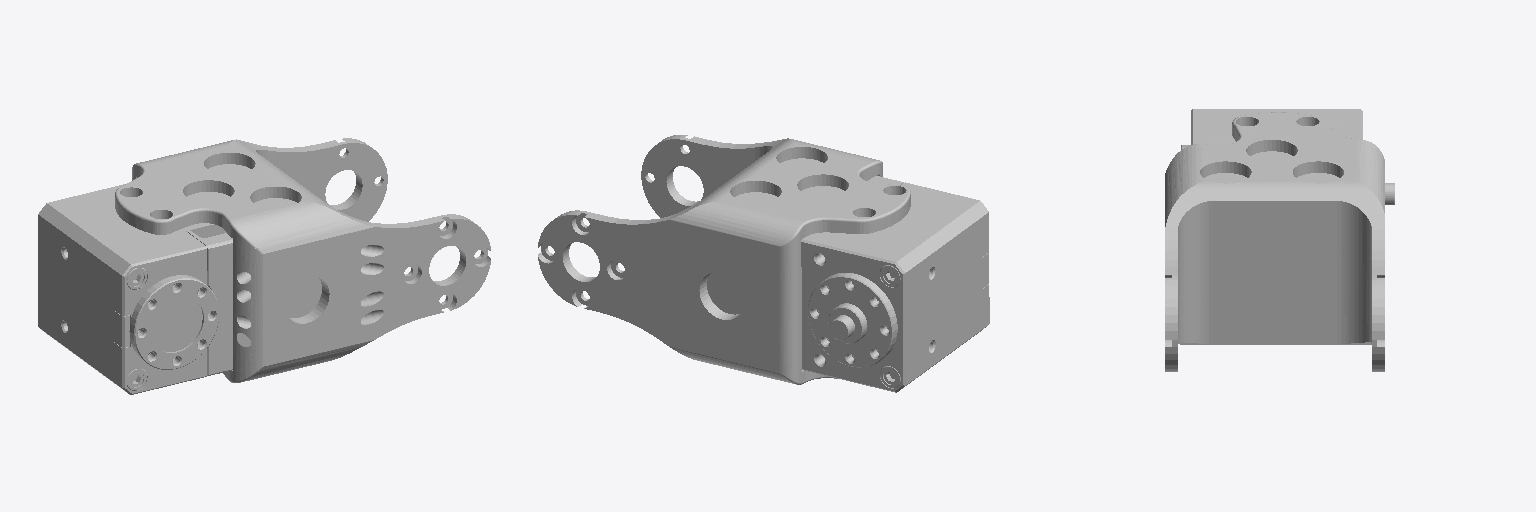
3 renders of one model, left to right at view 1: azimuth 30°, elevation 25°; view 2: azimuth 150°, elevation 25°; view 3: azimuth 270°, elevation 25°, orthographic.
Visible parts, largest first — view 1: link2; view 2: link2; view 3: link2.
Boxes of the visible parts, box(x1,y1,x2,y2) form: link2: box(38, 138, 490, 394); link2: box(538, 135, 989, 392); link2: box(1165, 109, 1394, 371).
Bounding box in the file's own units: 0.0812 × 0.0351 × 0.0455.